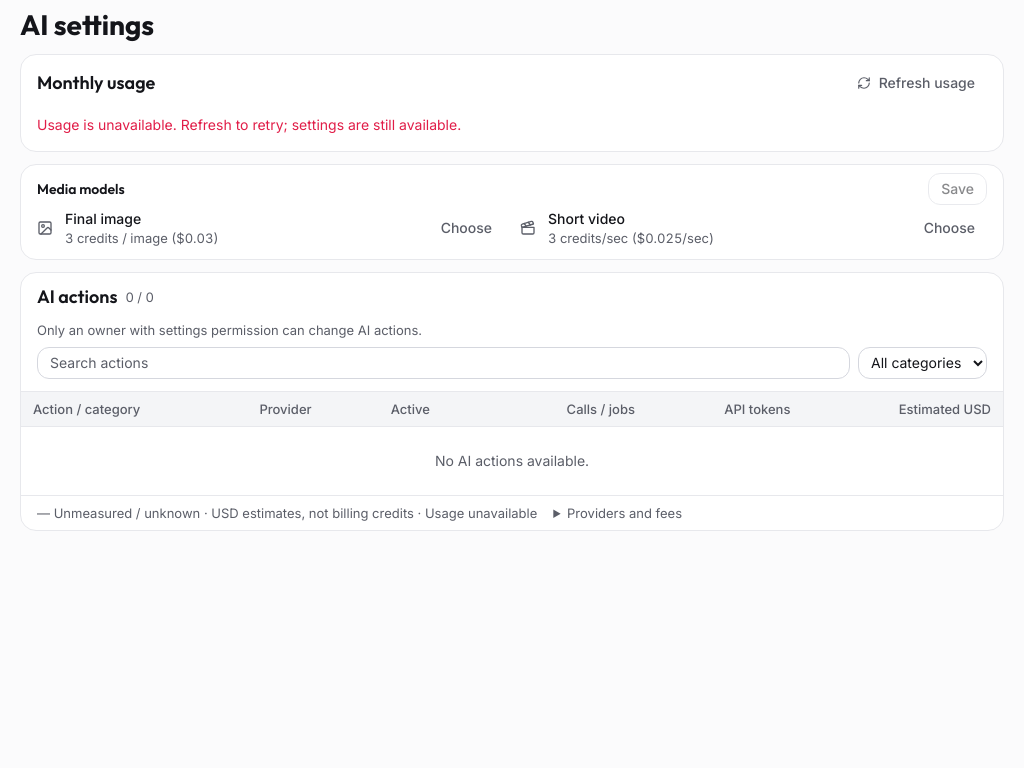
Test: AiModelsPage › prices every option, in the unit its kind is billed in
Click the button with aria-label "Choose video model": (949, 228) [912, 212, 987, 244]
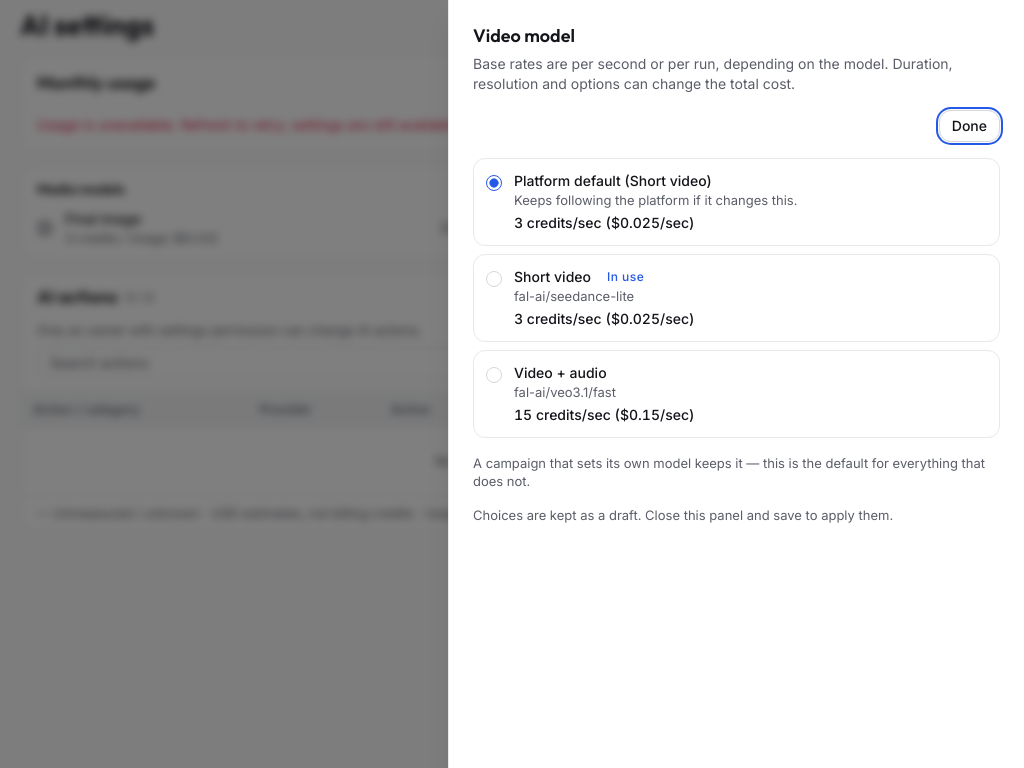
Result: the dialog "Video model" is shown at [448, 0, 1023, 767]
Result: the radio button next to "Video + audio" is shown at [486, 367, 502, 383]
Result: the radio button in the row of "In use" is shown at [486, 271, 502, 287]
Press Escape
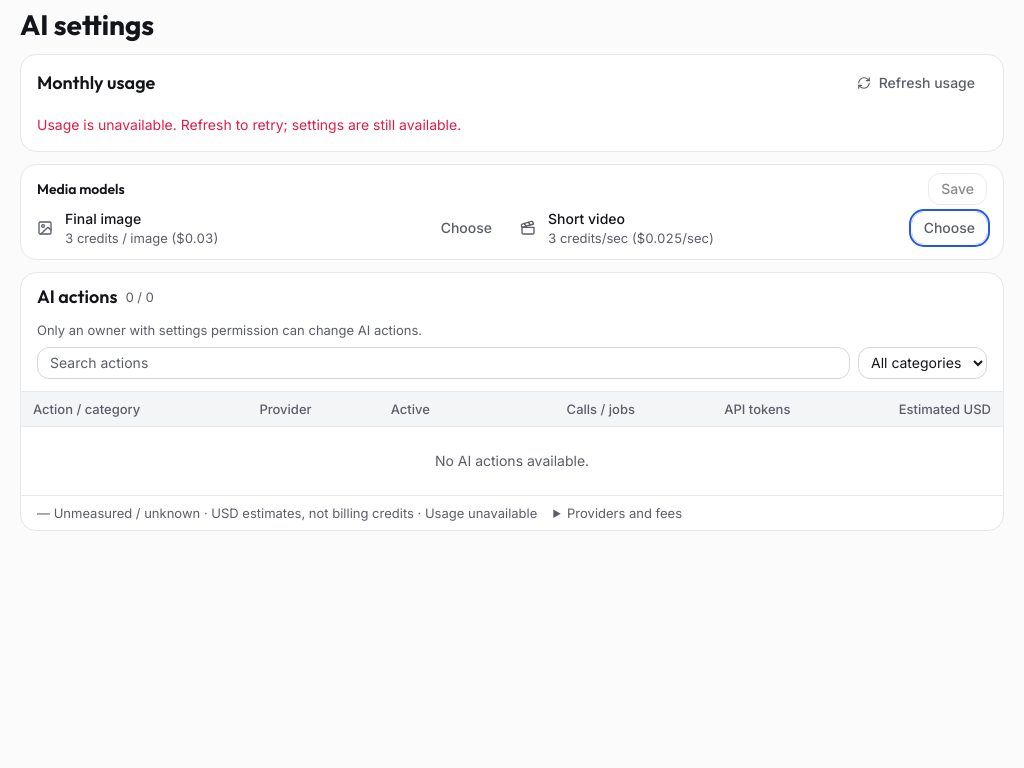
Click the button with aria-label "Choose image model": (466, 228) [429, 212, 504, 244]
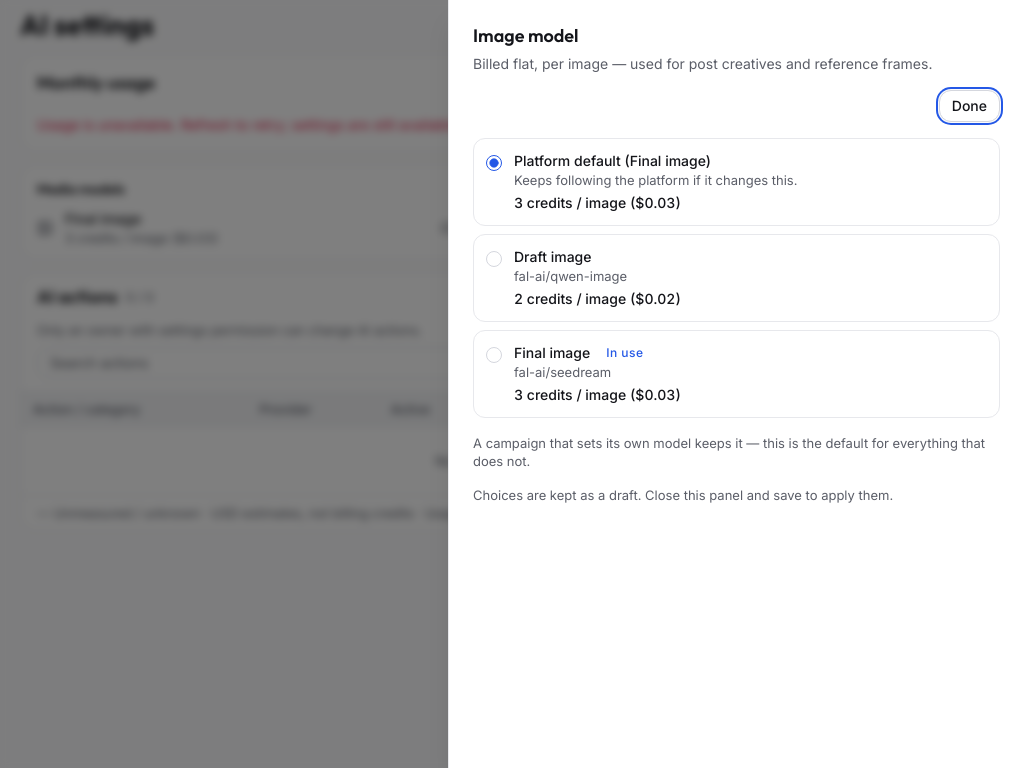
Result: the dialog "Image model" is shown at [448, 0, 1023, 767]
Result: the radio button next to "Draft image" is shown at [486, 251, 502, 267]
Result: the radio button in the row of "In use" is shown at [486, 347, 502, 363]
